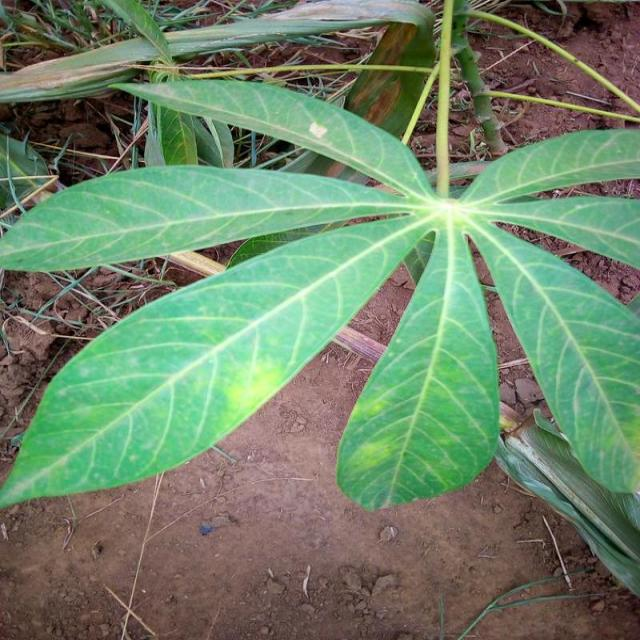cassava leaf: (1, 72, 638, 520), (0, 210, 433, 510), (463, 213, 639, 495), (334, 218, 501, 512), (0, 162, 416, 273), (494, 406, 638, 598)
